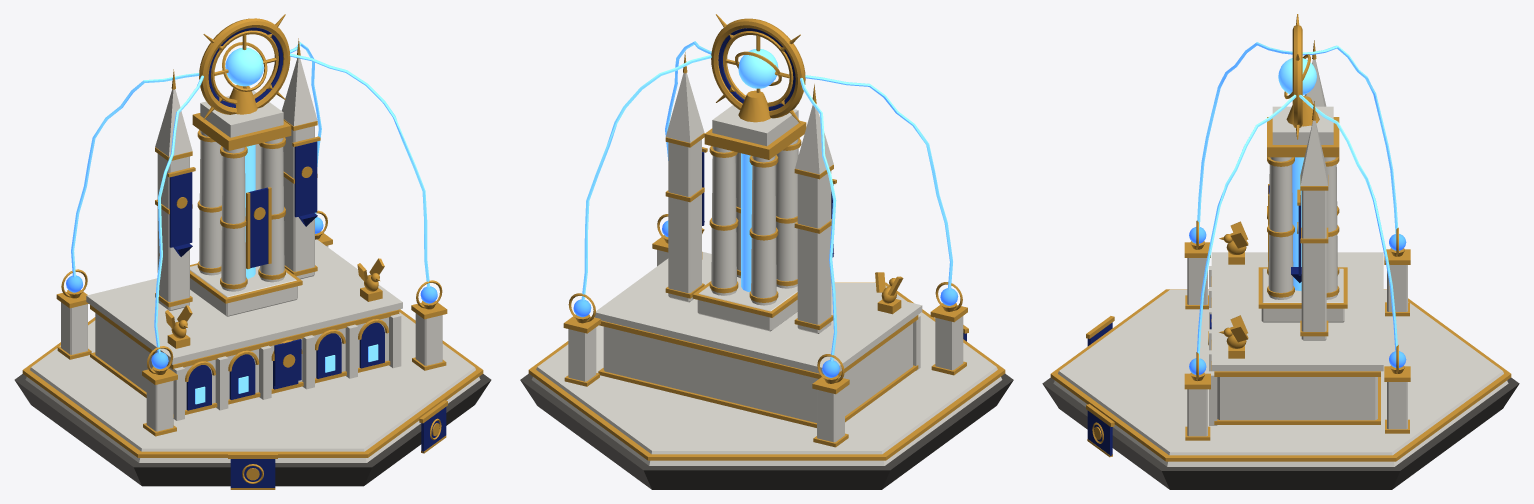
Rendered from zeus_tutor_structure_2.glb.
3 views of the same model, side by side, from view 1: azimuth 30°, elevation 25°; view 2: azimuth 150°, elevation 25°; view 3: azimuth 270°, elevation 25° (orthographic). The views are drawn at different scales.
Visible parts, largest first — view 1: zeus_tutor_structure_2; view 2: zeus_tutor_structure_2; view 3: zeus_tutor_structure_2.
Part boxes in pixels (x1,y1,x2,y2): zeus_tutor_structure_2: (14,14,491,489); zeus_tutor_structure_2: (520,14,1013,489); zeus_tutor_structure_2: (1042,14,1519,489).
Size of the model in its own units: 1.49 by 1.51 by 1.72.
Materials: 1 (1 with a texture image).
